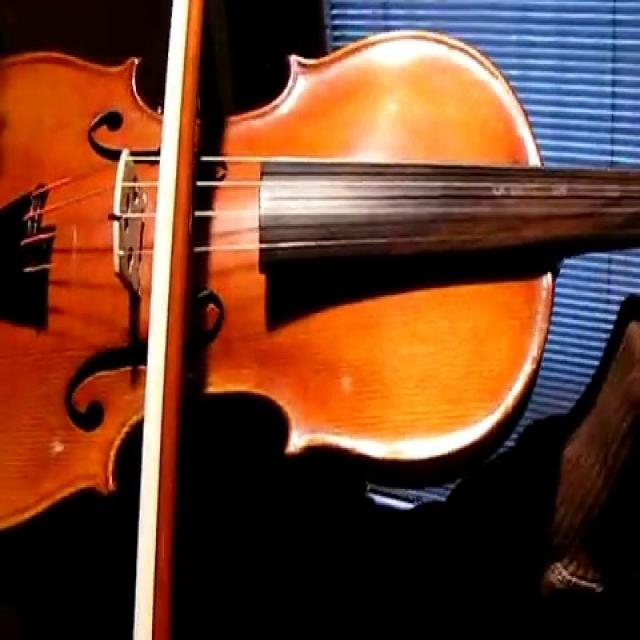Violin: (0, 42, 640, 538)
